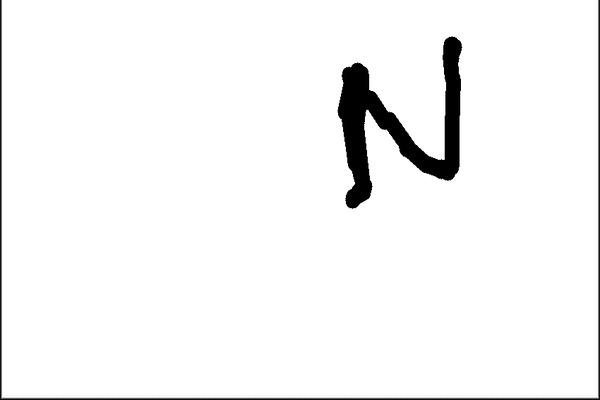N: (333, 31, 468, 215)
